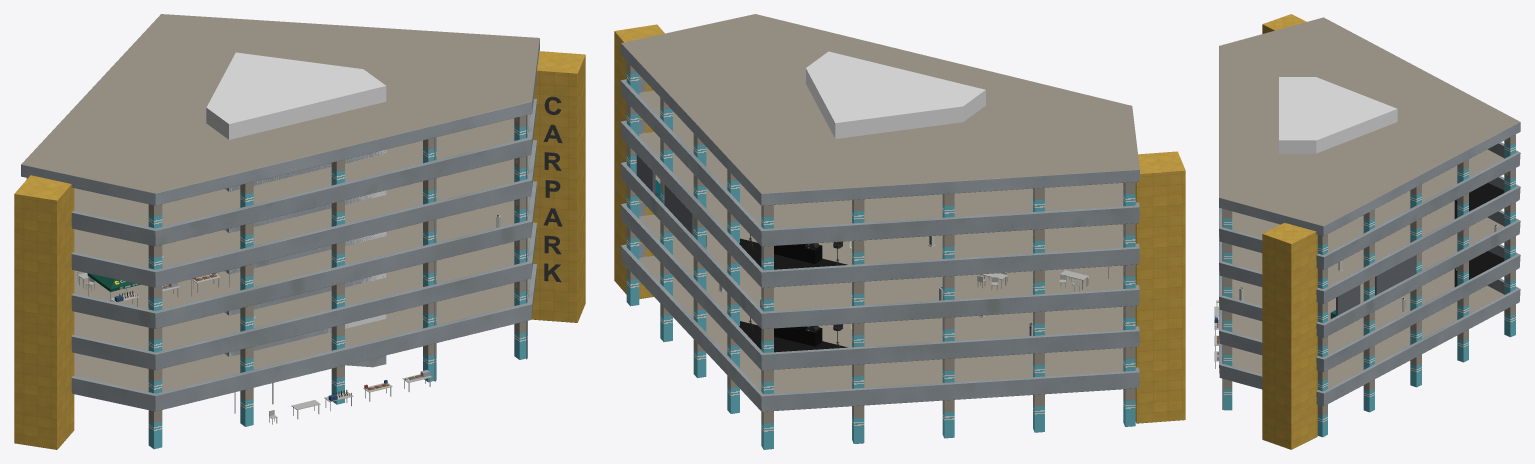
The model's file is building.glb.
3 views of the same model, side by side, from view 1: azimuth 30°, elevation 25°; view 2: azimuth 150°, elevation 25°; view 3: azimuth 270°, elevation 25° (orthographic). The views are drawn at different scales.
Parts seen in each view (by area): view 1: slab_roof, tower, slab_1, slab_4, slab_2, slab_5, slab_3, column_1, cutter_lane, cutter_central_well, CARPARK_letters, ramp_walls_L1 (+4 smaller); view 2: slab_roof, slab_1, slab_5, slab_3, slab_4, slab_2, tower, column_3, cutter_central_well, cutter_lane, column_2, DJ_Platform_Floor3 (+4 smaller); view 3: slab_roof, tower, slab_5, slab_1, slab_4, slab_2, slab_3, column_3, cutter_central_well, cutter_lane, column_2, column_1 (+4 smaller).
Boxes of the visible parts, x1=… form: slab_roof: x1=21, y1=14, x2=539, y2=205; tower: x1=14, y1=51, x2=585, y2=449; slab_1: x1=71, y1=264, x2=536, y2=411; slab_4: x1=71, y1=140, x2=536, y2=287; slab_2: x1=71, y1=222, x2=536, y2=370; slab_5: x1=71, y1=99, x2=536, y2=246; slab_3: x1=71, y1=181, x2=536, y2=328; column_1: x1=148, y1=115, x2=527, y2=449; cutter_lane: x1=206, y1=69, x2=386, y2=356; cutter_central_well: x1=206, y1=52, x2=362, y2=107; CARPARK_letters: x1=543, y1=96, x2=562, y2=282; ramp_walls_L1: x1=227, y1=325, x2=386, y2=367; slab_roof: x1=621, y1=14, x2=1139, y2=205; slab_1: x1=620, y1=243, x2=1139, y2=411; slab_5: x1=620, y1=77, x2=1139, y2=246; slab_3: x1=620, y1=161, x2=1139, y2=329; slab_4: x1=620, y1=119, x2=1139, y2=287; slab_2: x1=620, y1=201, x2=1139, y2=370; tower: x1=614, y1=24, x2=1185, y2=423; column_3: x1=626, y1=61, x2=1135, y2=443; cutter_central_well: x1=806, y1=68, x2=962, y2=138; cutter_lane: x1=806, y1=51, x2=985, y2=121; column_2: x1=761, y1=205, x2=773, y2=449; DJ_Platform_Floor3: x1=739, y1=238, x2=847, y2=269; slab_roof: x1=1219, y1=17, x2=1520, y2=236; tower: x1=1262, y1=14, x2=1317, y2=449; slab_5: x1=1219, y1=142, x2=1520, y2=269; slab_1: x1=1219, y1=278, x2=1520, y2=406; slab_4: x1=1219, y1=176, x2=1520, y2=303; slab_2: x1=1219, y1=244, x2=1520, y2=372; slab_3: x1=1219, y1=210, x2=1520, y2=337; column_3: x1=1317, y1=159, x2=1468, y2=437; cutter_central_well: x1=1316, y1=77, x2=1397, y2=153; cutter_lane: x1=1279, y1=77, x2=1316, y2=153; column_2: x1=1504, y1=134, x2=1515, y2=337; column_1: x1=1223, y1=209, x2=1232, y2=410.
Bounding box in the file's own units: 43.6 × 20.3 × 24.52.
60 materials, 15 textured.
